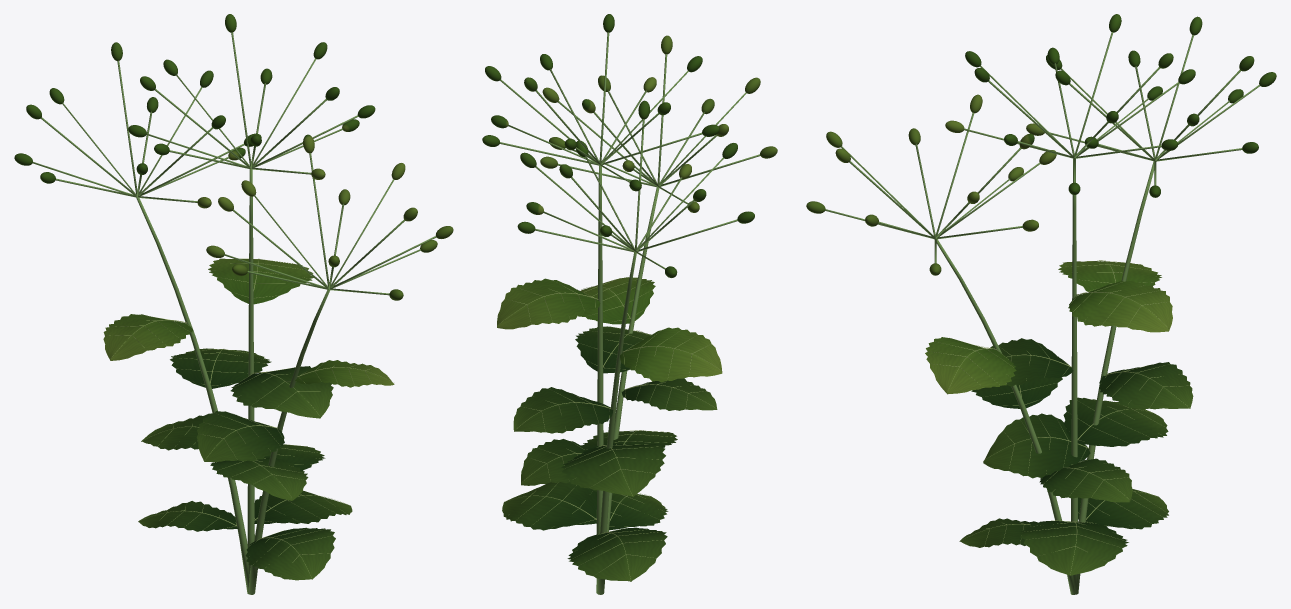
File: hydrangea-07.glb
3 views of the same model, side by side, from view 1: azimuth 30°, elevation 25°; view 2: azimuth 150°, elevation 25°; view 3: azimuth 270°, elevation 25° (orthographic). The views are drawn at different scales.
Visible parts, largest first — view 1: hydrangea_stage_07_leaf_veins.012, hydrangea_stage_07_young_leaf.012, hydrangea_stage_07_stem_fibres.012, hydrangea_stage_07_raised_midveins.012; view 2: hydrangea_stage_07_leaf_veins.012, hydrangea_stage_07_young_leaf.012, hydrangea_stage_07_stem_fibres.012, hydrangea_stage_07_raised_midveins.012; view 3: hydrangea_stage_07_leaf_veins.012, hydrangea_stage_07_young_leaf.012, hydrangea_stage_07_stem_fibres.012, hydrangea_stage_07_raised_midveins.012.
Boxes of the visible parts, bbox=[...] form: hydrangea_stage_07_leaf_veins.012: bbox=[138, 348, 352, 580]; hydrangea_stage_07_young_leaf.012: bbox=[14, 14, 453, 387]; hydrangea_stage_07_stem_fibres.012: bbox=[32, 32, 436, 594]; hydrangea_stage_07_raised_midveins.012: bbox=[105, 258, 391, 578]; hydrangea_stage_07_leaf_veins.012: bbox=[502, 326, 717, 581]; hydrangea_stage_07_young_leaf.012: bbox=[482, 14, 777, 382]; hydrangea_stage_07_stem_fibres.012: bbox=[500, 32, 760, 594]; hydrangea_stage_07_raised_midveins.012: bbox=[497, 278, 721, 580]; hydrangea_stage_07_leaf_veins.012: bbox=[959, 338, 1193, 575]; hydrangea_stage_07_young_leaf.012: bbox=[806, 14, 1276, 394]; hydrangea_stage_07_stem_fibres.012: bbox=[825, 32, 1259, 594]; hydrangea_stage_07_raised_midveins.012: bbox=[929, 260, 1189, 574].
Bounding box in the file's own units: 0.3564 × 0.6121 × 0.4719.
4 materials, 2 textured.
